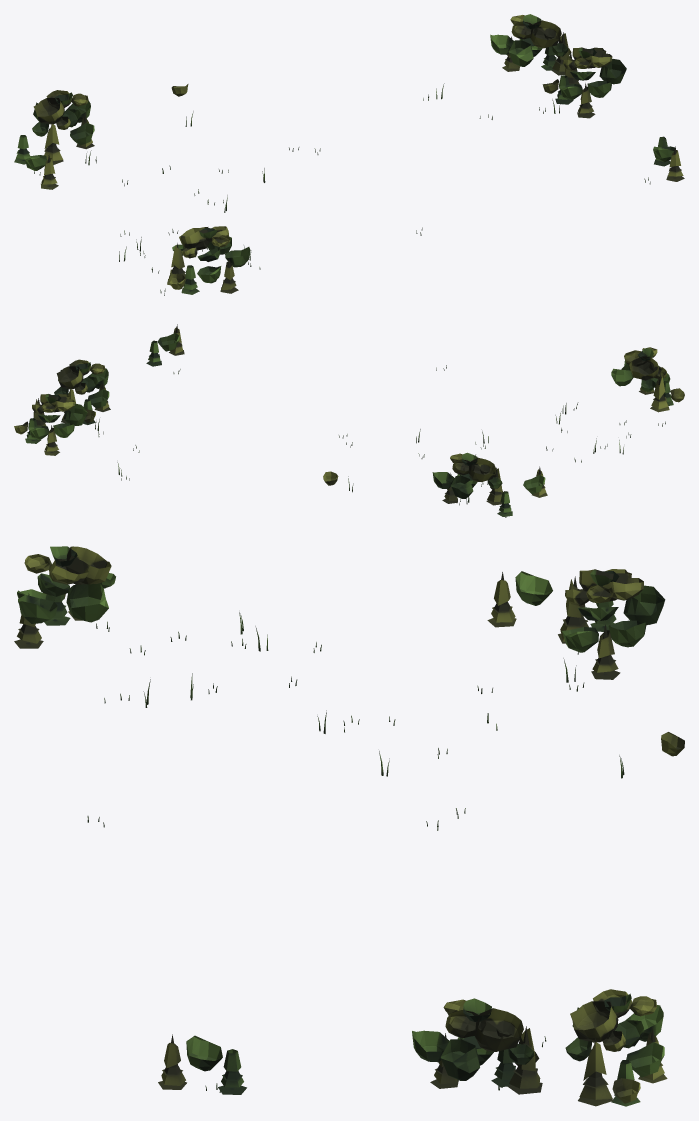
File: Wood_Plant_01.FBX
3 renders of one model, top to bottom at view 1: azimuth 30°, elevation 25°; view 2: azimuth 150°, elevation 25°; view 3: azimuth 270°, elevation 25°, orthographic. The views are drawn at different scales.
Parts seen in each view (by area): view 1: Wood_Plant_01; view 2: Wood_Plant_01; view 3: Wood_Plant_01.
Part boxes in pixels (bbox=[...]): Wood_Plant_01: bbox=[14, 14, 684, 295]; Wood_Plant_01: bbox=[14, 324, 684, 517]; Wood_Plant_01: bbox=[14, 546, 684, 1106].
Size of the model in its own units: 38.58 by 6.88 by 24.5.
